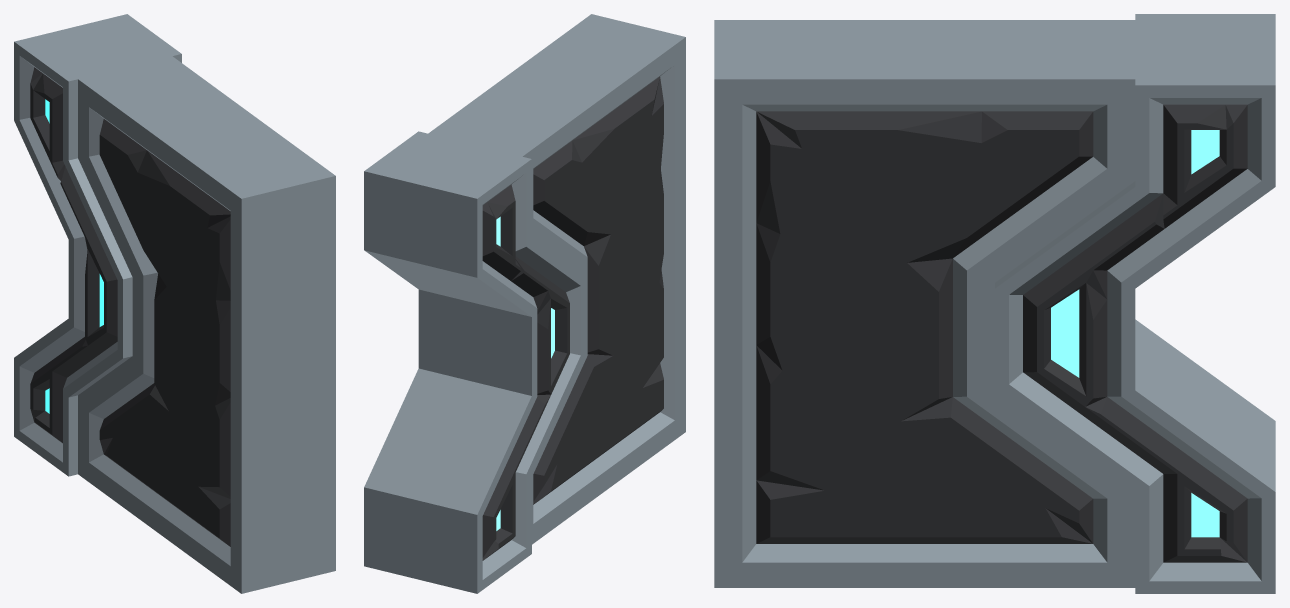
File: Door_Right.fbx
3 renders of one model, left to right at view 1: azimuth 30°, elevation 25°; view 2: azimuth 150°, elevation 25°; view 3: azimuth 270°, elevation 25°, orthographic. The views are drawn at different scales.
Visible parts, largest first — view 1: Door_Right; view 2: Door_Right; view 3: Door_Right.
Part boxes in pixels (x1,y1,x2,y2): Door_Right: [14, 14, 335, 593]; Door_Right: [364, 14, 685, 593]; Door_Right: [714, 14, 1275, 593].
Size of the model in its own units: 1.2 by 4 by 4.
